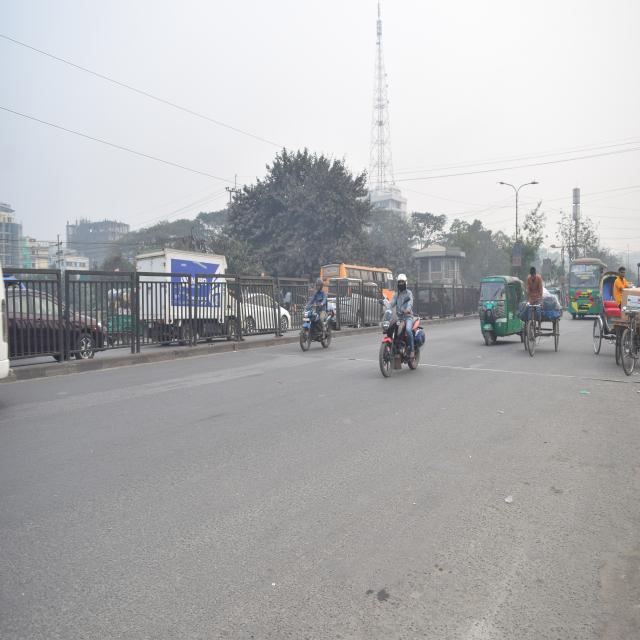bus: (565, 259, 600, 317)
motorbike: (374, 309, 436, 387), (292, 307, 332, 350)
